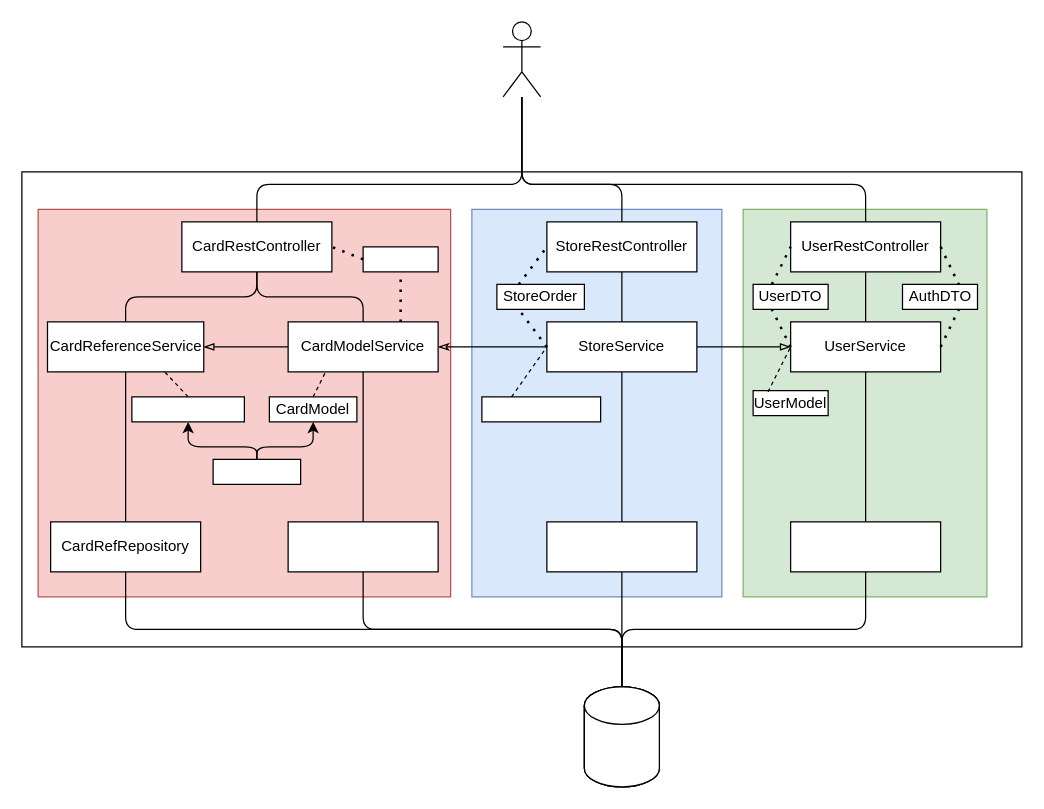
This 1044x809 diagram has some shape labels left out. The shapes that lost their labels are listed below. From the top down, each one's centre as x and y in pixels, then its label:
(x=400, y=259): CardDTO
(x=187, y=409): CardReference
(x=541, y=409): StoreTransaction
(x=256, y=471): CardBasics
(x=362, y=546): CardModelRepository
(x=621, y=546): StoreRepository
(x=865, y=546): UserRepository
